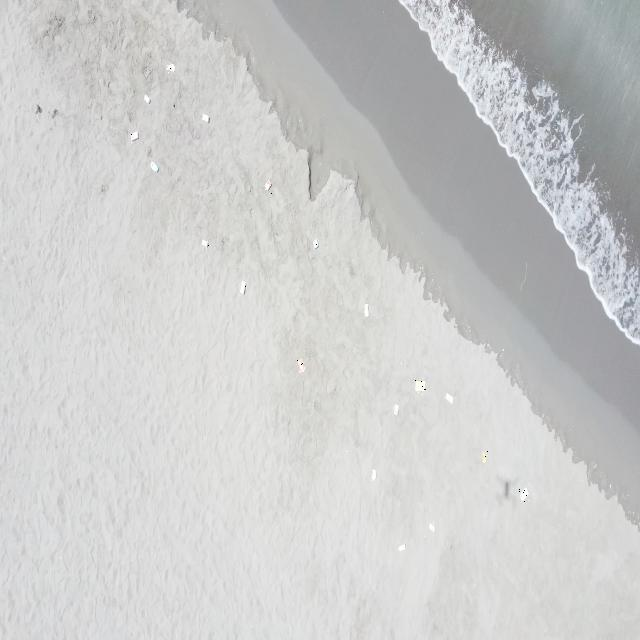Garbage: (517, 487, 527, 502), (415, 379, 425, 392), (296, 359, 303, 372), (444, 392, 452, 403), (129, 131, 138, 140), (263, 181, 271, 191), (240, 280, 246, 293), (151, 160, 158, 171), (482, 449, 487, 463), (200, 239, 208, 247), (143, 94, 150, 103), (201, 112, 208, 121), (166, 63, 173, 71), (392, 404, 397, 415), (427, 523, 433, 532), (397, 544, 404, 551), (371, 468, 375, 480), (312, 239, 318, 247), (36, 103, 40, 114), (364, 303, 367, 316)
